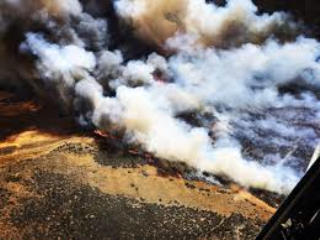smoke: (31, 22, 303, 187)
